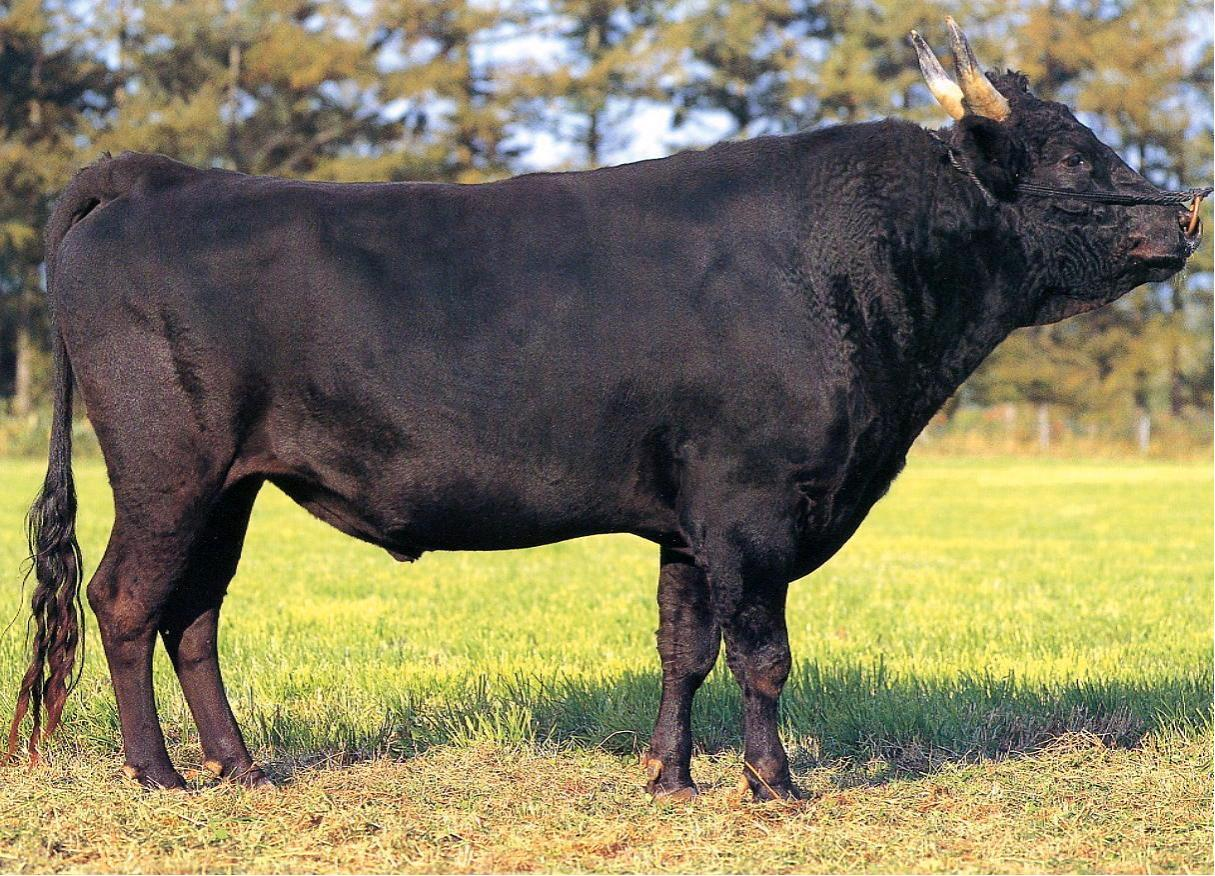background: (25, 32, 1215, 837)
